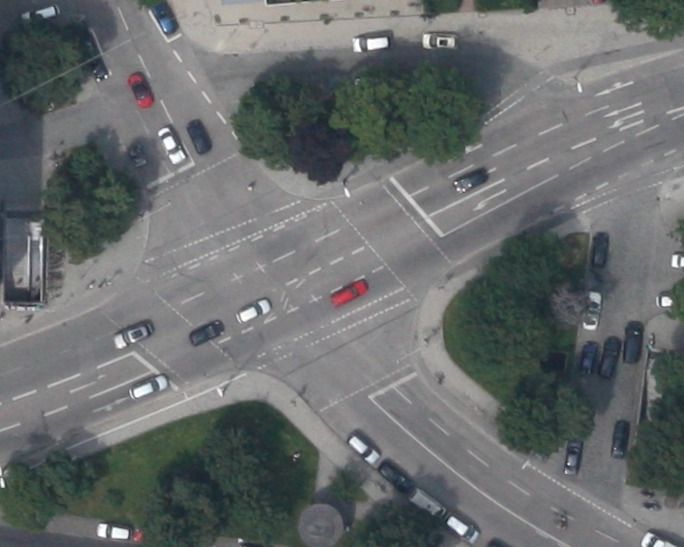car: (375, 459, 414, 495), (110, 319, 154, 350), (441, 511, 480, 545), (408, 487, 446, 521), (155, 124, 186, 165), (126, 373, 169, 402), (595, 334, 622, 378), (328, 278, 368, 307), (232, 296, 271, 325), (126, 70, 153, 109), (149, 0, 179, 35), (346, 433, 379, 464), (621, 319, 644, 363), (451, 166, 487, 194), (187, 319, 224, 346), (184, 117, 211, 154), (21, 2, 60, 26), (581, 289, 602, 330), (609, 418, 630, 458), (351, 33, 390, 53), (94, 521, 131, 541), (563, 437, 582, 474), (589, 231, 608, 267), (577, 342, 596, 377), (86, 55, 109, 83), (421, 32, 457, 49), (125, 143, 147, 167)
